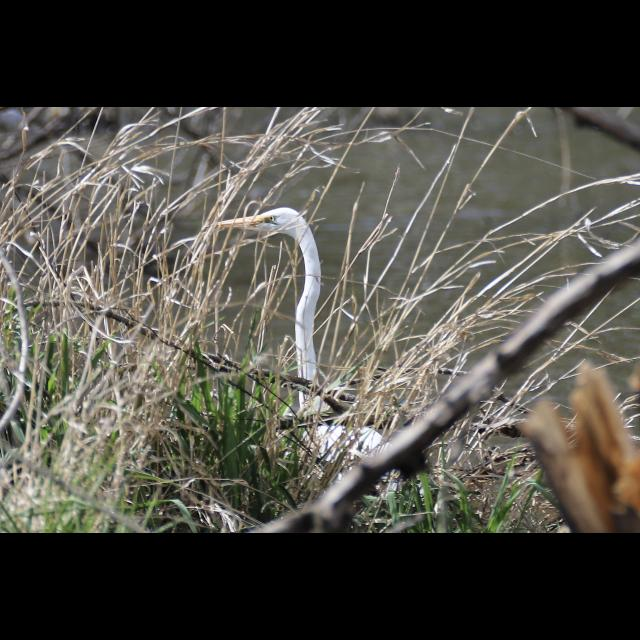egret: (232, 194, 331, 380)
